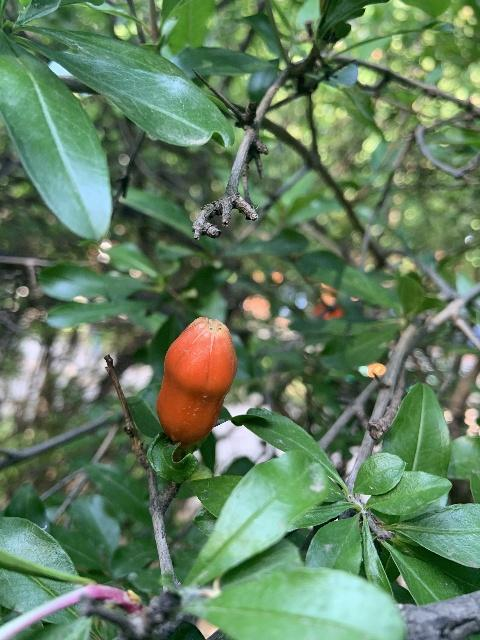bud: (157, 316, 237, 446)
